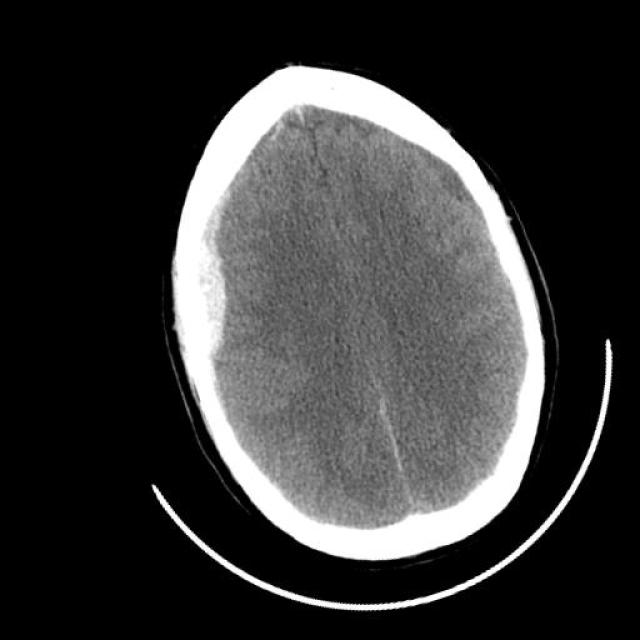Subdural: (93, 130, 327, 398)
